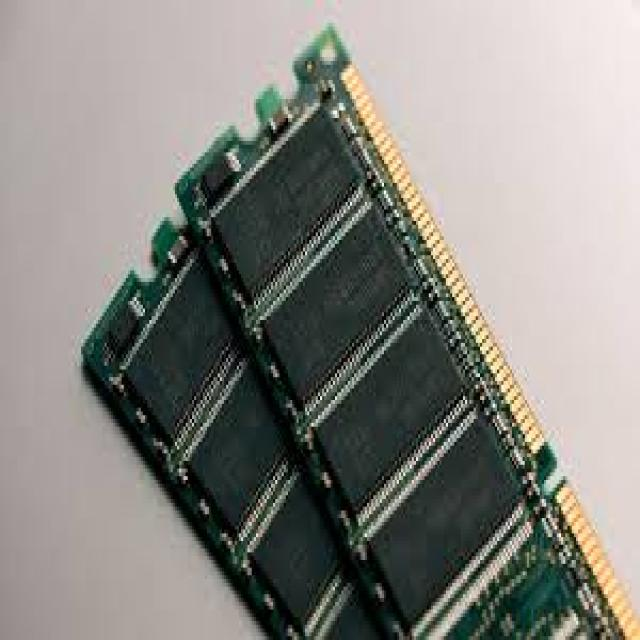Ram: (79, 54, 550, 548)
